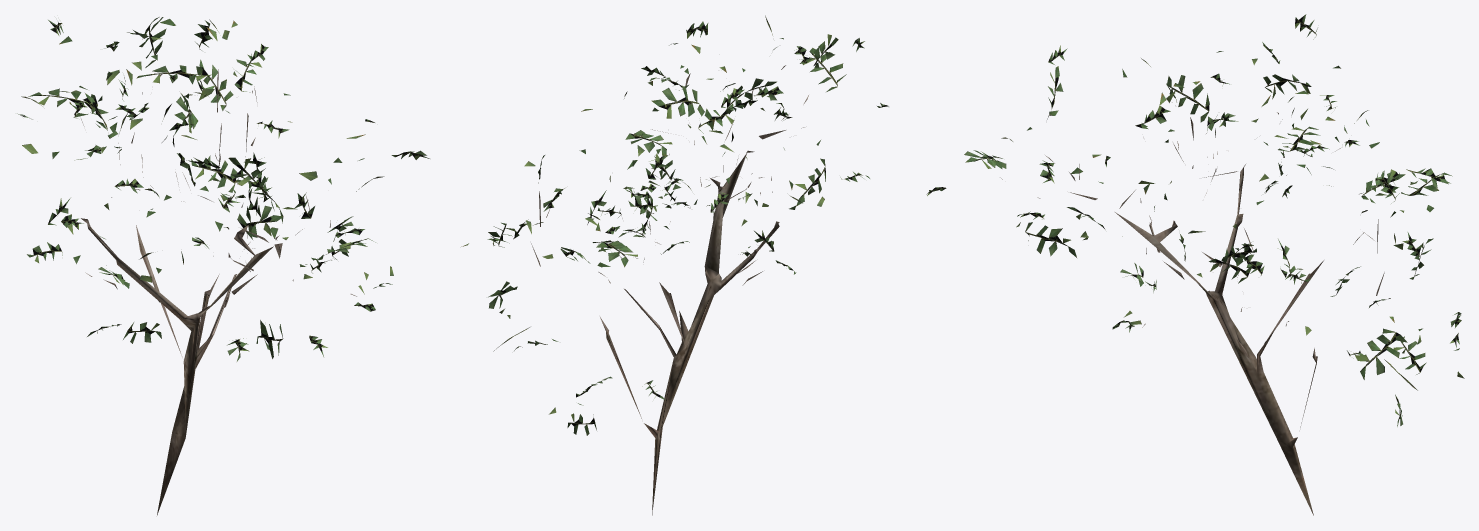
Rendered from arbre_petit_ornement_lod2.glb.
3 renders of one model, left to right at view 1: azimuth 30°, elevation 25°; view 2: azimuth 150°, elevation 25°; view 3: azimuth 270°, elevation 25°, orthographic. The views are drawn at different scales.
Visible parts, largest first — view 1: tree_small_02_LOD0; view 2: tree_small_02_LOD0; view 3: tree_small_02_LOD0.
Boxes of the visible parts, x1=… form: tree_small_02_LOD0: x1=17, y1=17, x2=429, y2=515; tree_small_02_LOD0: x1=461, y1=15, x2=888, y2=515; tree_small_02_LOD0: x1=926, y1=14, x2=1464, y2=515.
Size of the model in its own units: 2.51 by 3.78 by 4.09.
3 materials, 3 textured.
